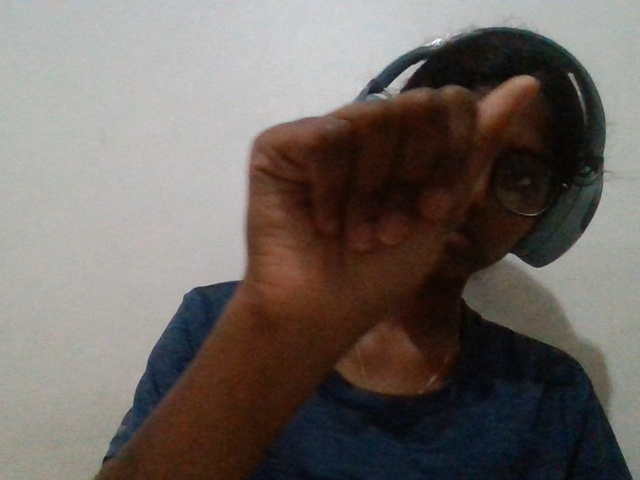A: (195, 67, 554, 398)
